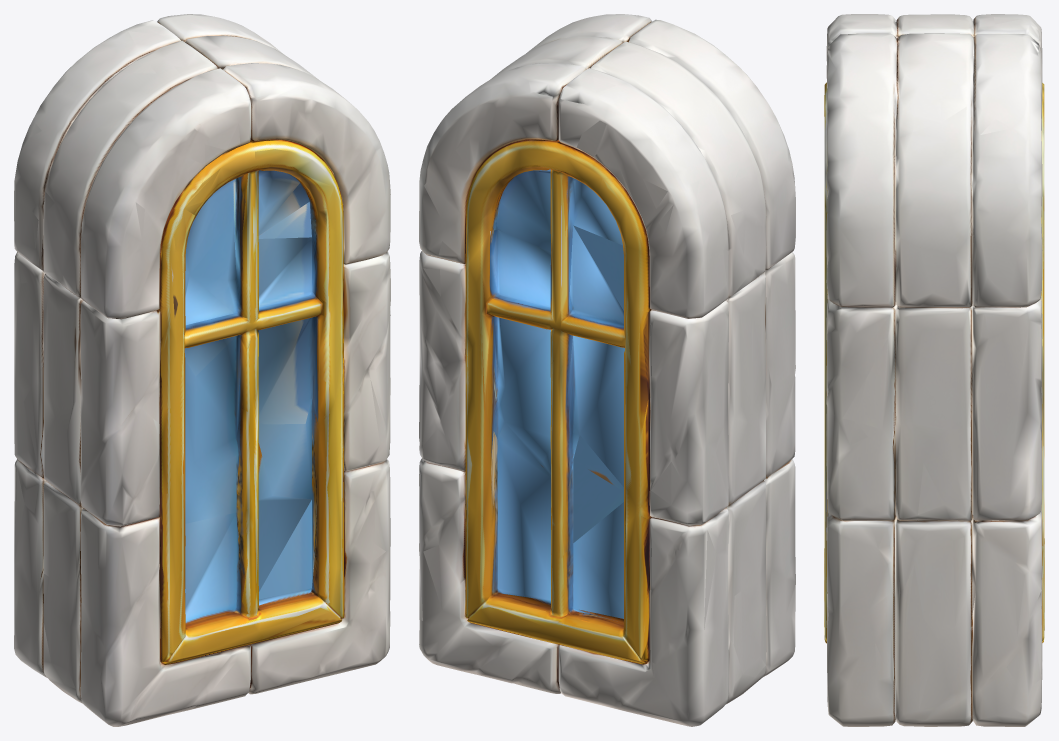
Rendered from HaloPart_TowerWindow_HD_LOD.glb.
3 views of the same model, side by side, from view 1: azimuth 30°, elevation 25°; view 2: azimuth 150°, elevation 25°; view 3: azimuth 270°, elevation 25° (orthographic). The views are drawn at different scales.
Parts seen in each view (by area): view 1: tripo_node_06b9b438-80df-4311-b856-86563993de92; view 2: tripo_node_06b9b438-80df-4311-b856-86563993de92; view 3: tripo_node_06b9b438-80df-4311-b856-86563993de92.
Boxes of the visible parts, box(x1,y1,x2,y2) form: tripo_node_06b9b438-80df-4311-b856-86563993de92: box(14, 14, 390, 726); tripo_node_06b9b438-80df-4311-b856-86563993de92: box(419, 14, 795, 726); tripo_node_06b9b438-80df-4311-b856-86563993de92: box(824, 14, 1044, 726).
Size of the model in its own units: 0.4822 by 0.9794 by 0.3101.
Materials: 1 (1 with a texture image).
